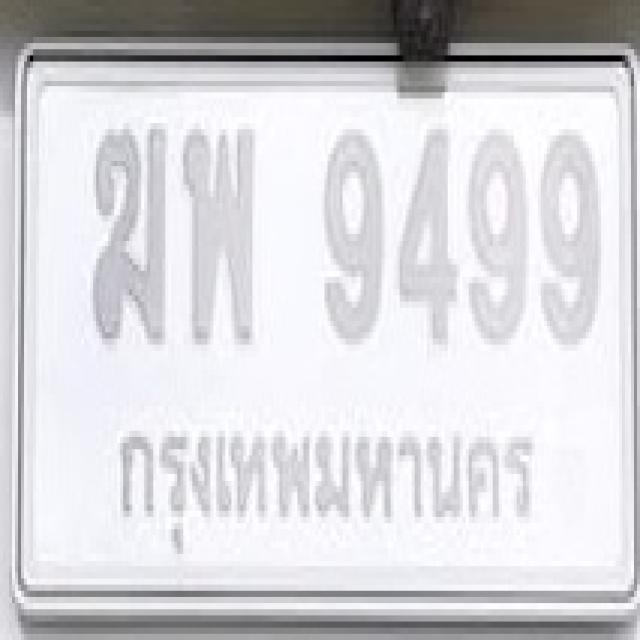license_plate: (15, 37, 640, 621)
